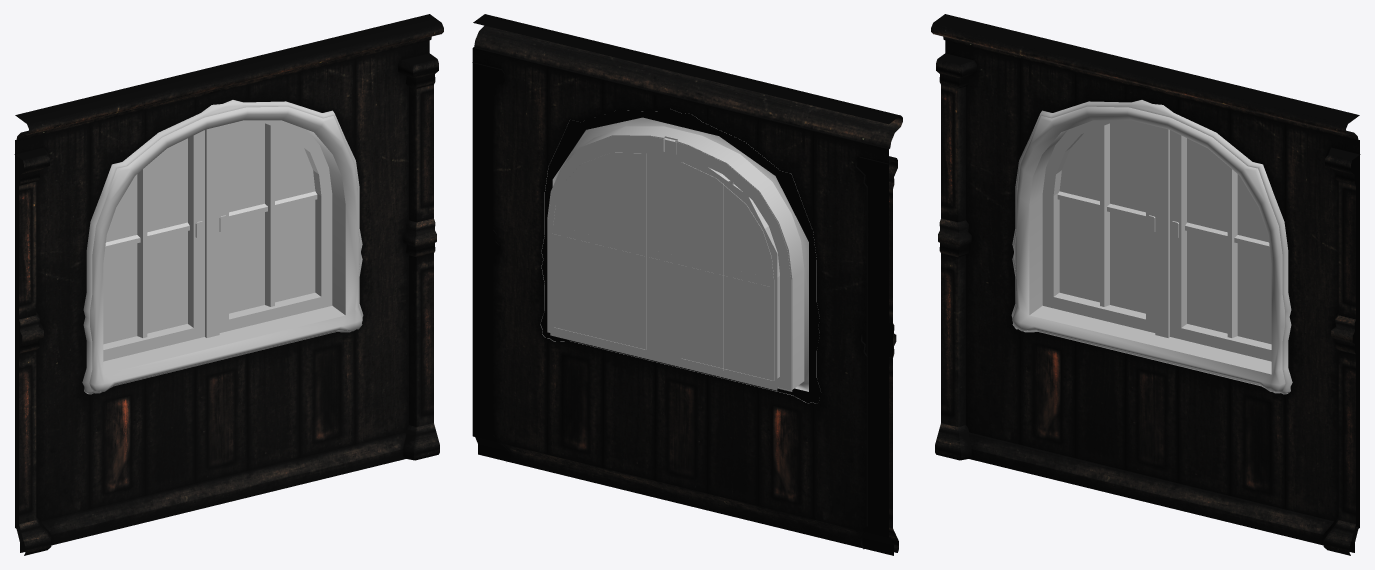
Rendered from window02_blue_rotten.dae.
3 renders of one model, left to right at view 1: azimuth 30°, elevation 25°; view 2: azimuth 150°, elevation 25°; view 3: azimuth 330°, elevation 25°, orthographic.
Parts seen in each view (by area): view 1: mansionbase02_window, mansionbase_window_frame1, mansionbase_window_blue; view 2: mansionbase02_window, mansionbase_window_blue, mansionbase_window_frame1; view 3: mansionbase02_window, mansionbase_window_frame1, mansionbase_window_blue.
Part boxes in pixels (x1,y1,x2,y2): mansionbase02_window: (14, 14, 443, 555); mansionbase_window_frame1: (82, 100, 363, 394); mansionbase_window_blue: (103, 123, 315, 344); mansionbase02_window: (472, 14, 902, 555); mansionbase_window_blue: (550, 143, 777, 390); mansionbase_window_frame1: (540, 110, 819, 403); mansionbase02_window: (931, 14, 1360, 555); mansionbase_window_frame1: (1011, 100, 1292, 394); mansionbase_window_blue: (1059, 123, 1271, 344).
Size of the model in its own units: 4 by 4 by 0.5209.
